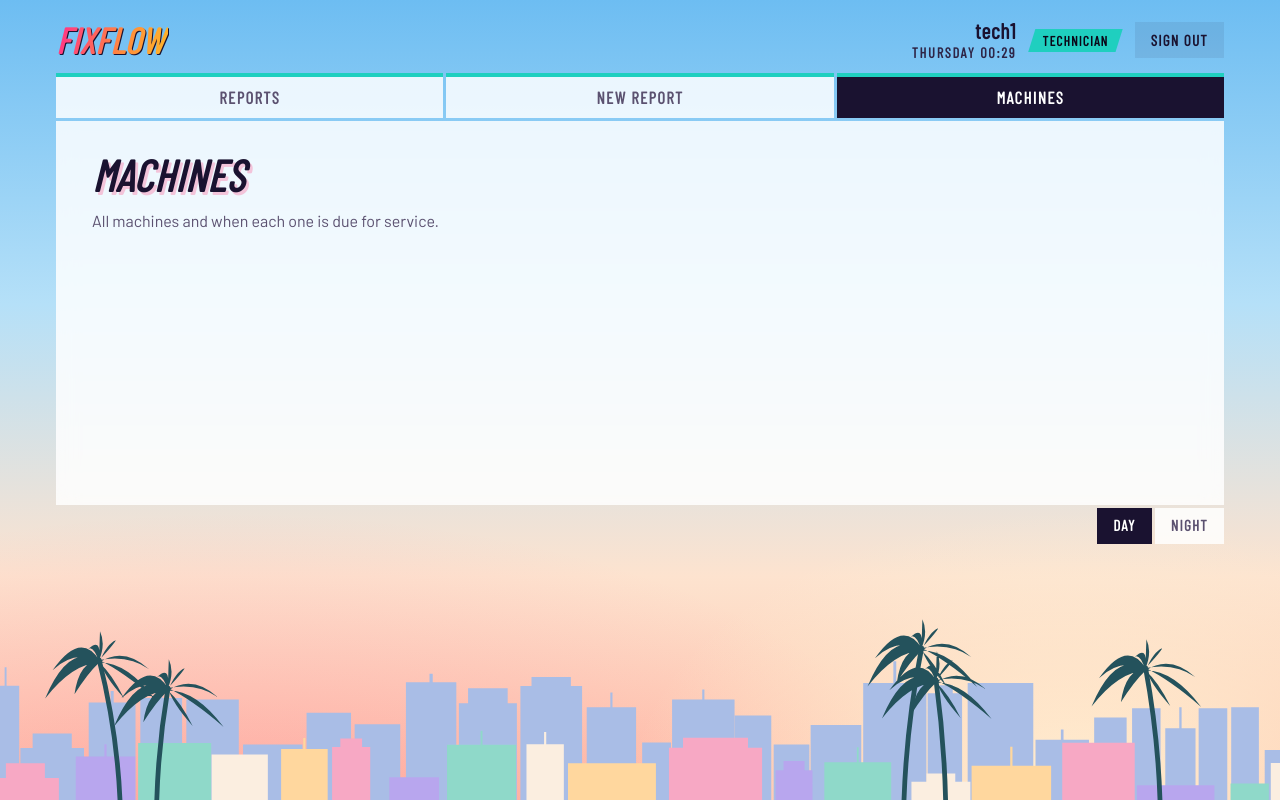
Test: signing out › signs out, and the next sign-in starts on the home page
Click the button "Sign out": coordinates (1179, 40) [1135,22,1224,58]
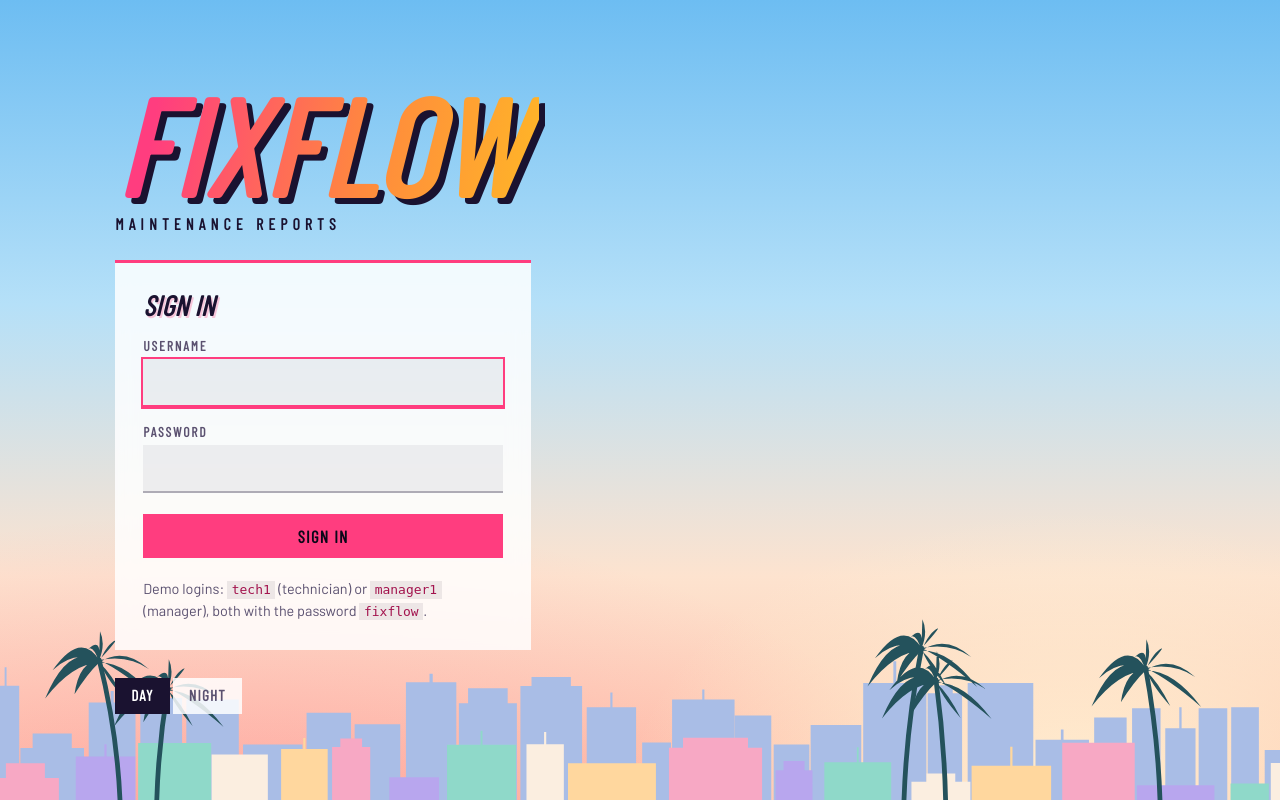
Expected: the heading "Sign in" is shown, [143,288,215,322]
In the field labelled "Username": coordinates (323, 383) [143,359,503,407], type "manager1"
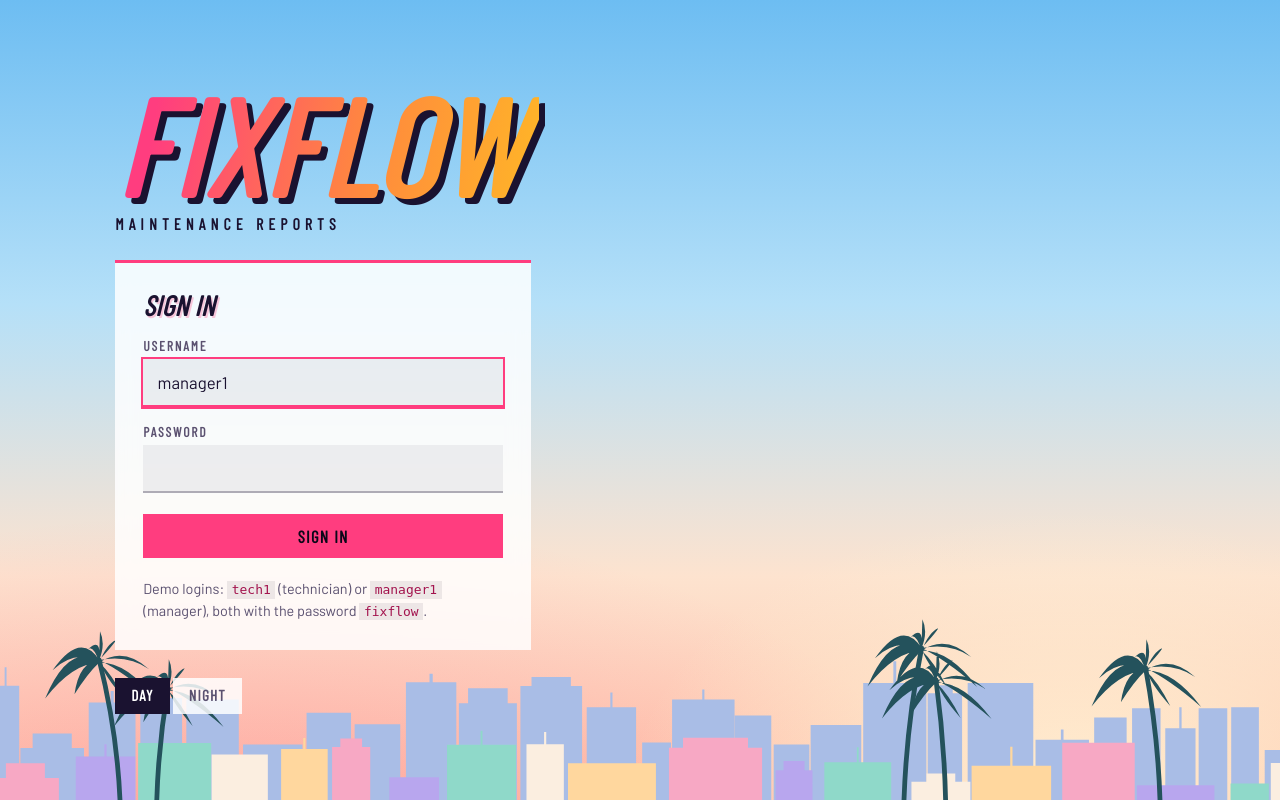
In the password field labelled "Password": coordinates (323, 469) [143,445,503,493], type "fixflow"
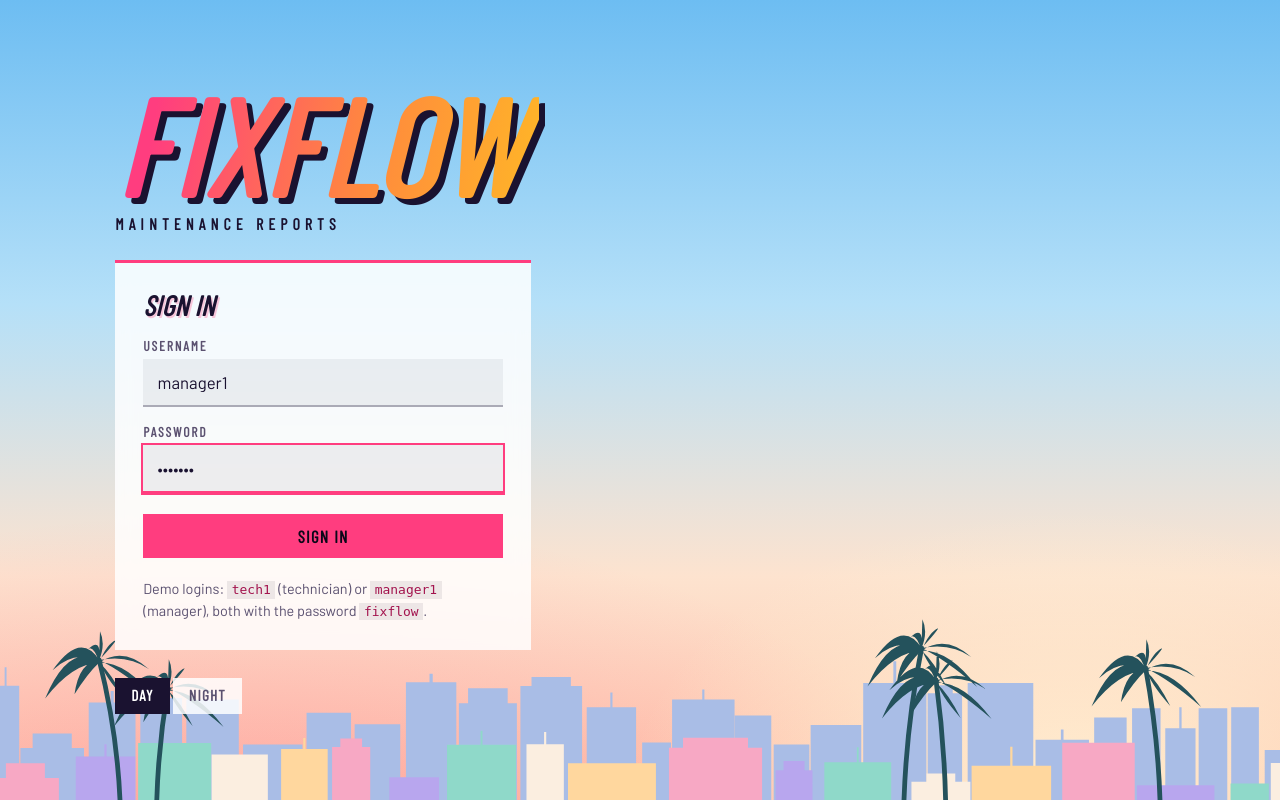
Click the button "Sign in": coordinates (323, 536) [143,514,503,558]
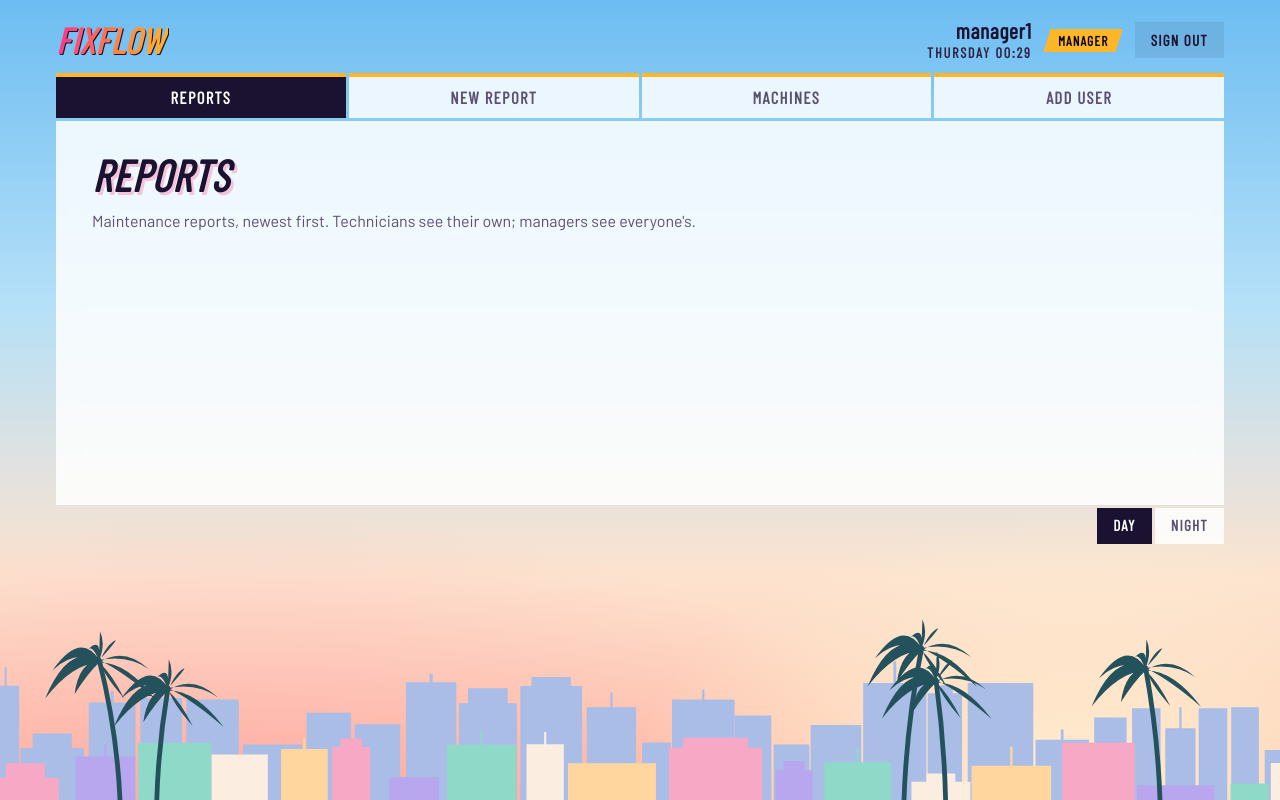
Expected: the heading "Reports" is shown, [92,148,229,201]
